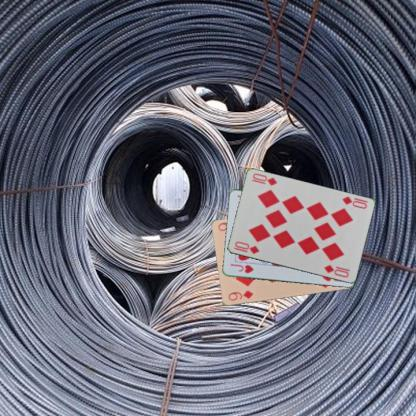10d: (231, 238, 261, 256), (339, 194, 368, 210)
9d: (225, 288, 254, 302)
Jh: (228, 261, 255, 275)
